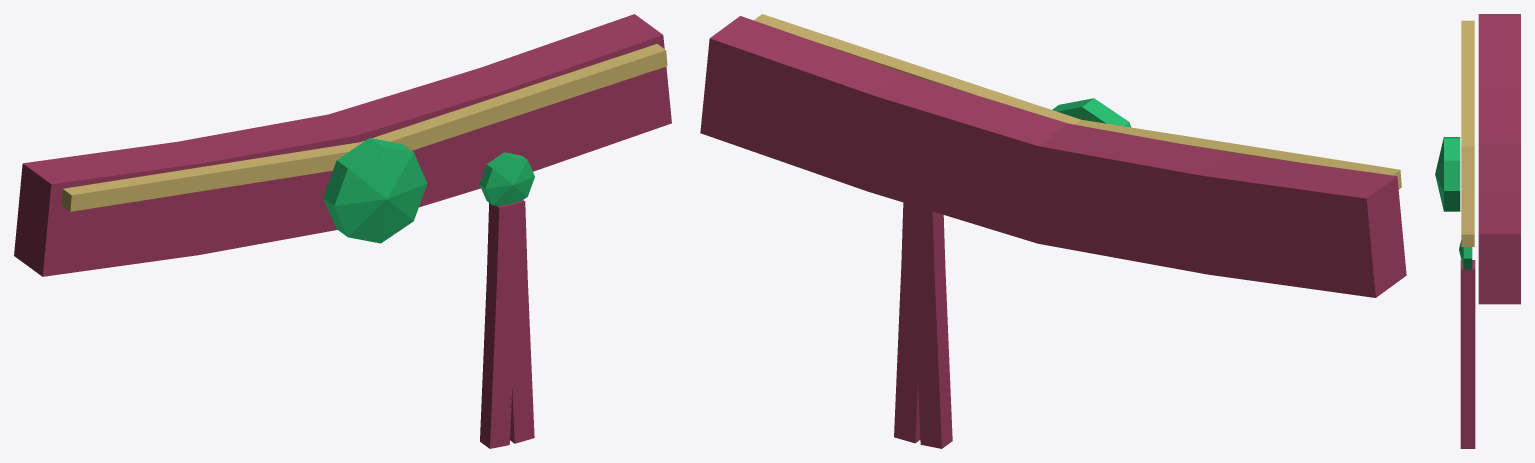
Rendered from jade_sash.obj.
3 views of the same model, side by side, from view 1: azimuth 30°, elevation 25°; view 2: azimuth 150°, elevation 25°; view 3: azimuth 270°, elevation 25° (orthographic). The views are drawn at different scales.
Parts seen in each view (by area): view 1: jade_sash, jade_sash_edge, sash_edge, sash_jade, sash_edge_edge, sash_charm_strand_01, sash_charm_strand_00, sash_charm_strand_00_edge, sash_charm_knot; view 2: jade_sash, jade_sash_edge, sash_edge_edge, sash_charm_strand_00, sash_charm_strand_01, sash_charm_strand_00_edge, sash_jade; view 3: jade_sash_edge, sash_edge_edge, sash_charm_strand_01_edge, sash_jade, sash_charm_knot.
Boxes of the visible parts, x1,y1,x2,y2 form: jade_sash: [42, 35, 671, 276]; jade_sash_edge: [14, 14, 662, 276]; sash_edge: [70, 50, 667, 211]; sash_jade: [323, 138, 427, 243]; sash_edge_edge: [61, 44, 665, 211]; sash_charm_strand_01: [505, 201, 534, 443]; sash_charm_strand_00: [490, 205, 516, 448]; sash_charm_strand_00_edge: [480, 203, 511, 448]; sash_charm_knot: [479, 152, 534, 206]; jade_sash: [700, 38, 1375, 297]; jade_sash_edge: [710, 16, 1406, 297]; sash_edge_edge: [754, 14, 1401, 189]; sash_charm_strand_00: [911, 205, 941, 448]; sash_charm_strand_01: [894, 202, 924, 443]; sash_charm_strand_00_edge: [932, 211, 952, 448]; sash_jade: [1052, 98, 1131, 127]; jade_sash_edge: [1478, 14, 1520, 304]; sash_edge_edge: [1461, 20, 1474, 246]; sash_charm_strand_01_edge: [1460, 265, 1475, 448]; sash_jade: [1435, 137, 1460, 211]; sash_charm_knot: [1459, 240, 1472, 269].
Bounding box in the file's own units: 1.01 × 0.5554 × 0.1622.
